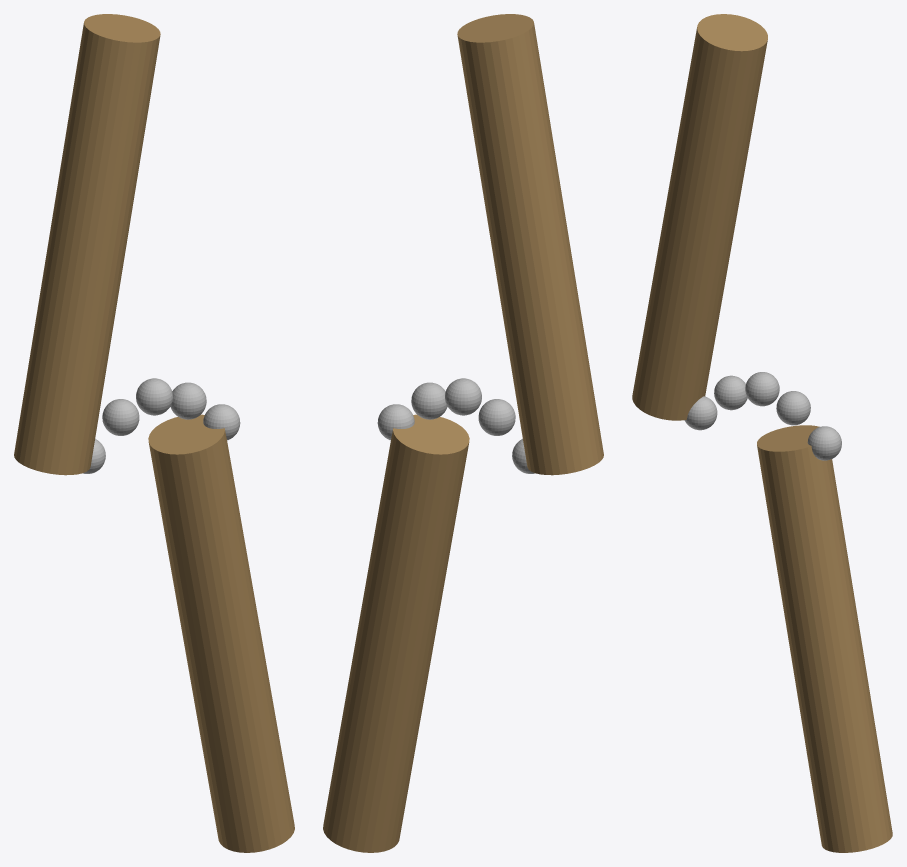
The model's file is nunchaku.glb.
The picture shows the model from 3 angles, left to right: view 1: azimuth 30°, elevation 25°; view 2: azimuth 150°, elevation 25°; view 3: azimuth 330°, elevation 25°; orthographic projection. The views are drawn at different scales.
Parts seen in each view (by area): view 1: Stick1, Stick2, Chain2, Chain1, Chain3, Chain4; view 2: Stick1, Stick2, Chain2, Chain1, Chain3, Chain4; view 3: Stick2, Stick1, Chain3, Chain2, Chain1, Chain4, Chain0.
Part boxes in pixels (<box>): Stick1: <box>14,14,160,475</box>; Stick2: <box>148,414,294,852</box>; Chain2: <box>136,378,172,415</box>; Chain1: <box>102,399,139,435</box>; Chain3: <box>170,382,206,419</box>; Chain4: <box>203,404,240,440</box>; Stick1: <box>457,14,603,475</box>; Stick2: <box>323,414,469,852</box>; Chain2: <box>445,378,481,415</box>; Chain1: <box>478,399,515,435</box>; Chain3: <box>411,382,447,419</box>; Chain4: <box>377,404,414,440</box>; Stick2: <box>757,425,892,852</box>; Stick1: <box>632,14,767,420</box>; Chain3: <box>776,391,810,425</box>; Chain2: <box>745,372,779,406</box>; Chain1: <box>714,375,747,410</box>; Chain4: <box>807,426,841,460</box>; Chain0: <box>684,396,717,430</box>.
Size of the model in its own units: 0.2013 by 0.6041 by 0.05.
